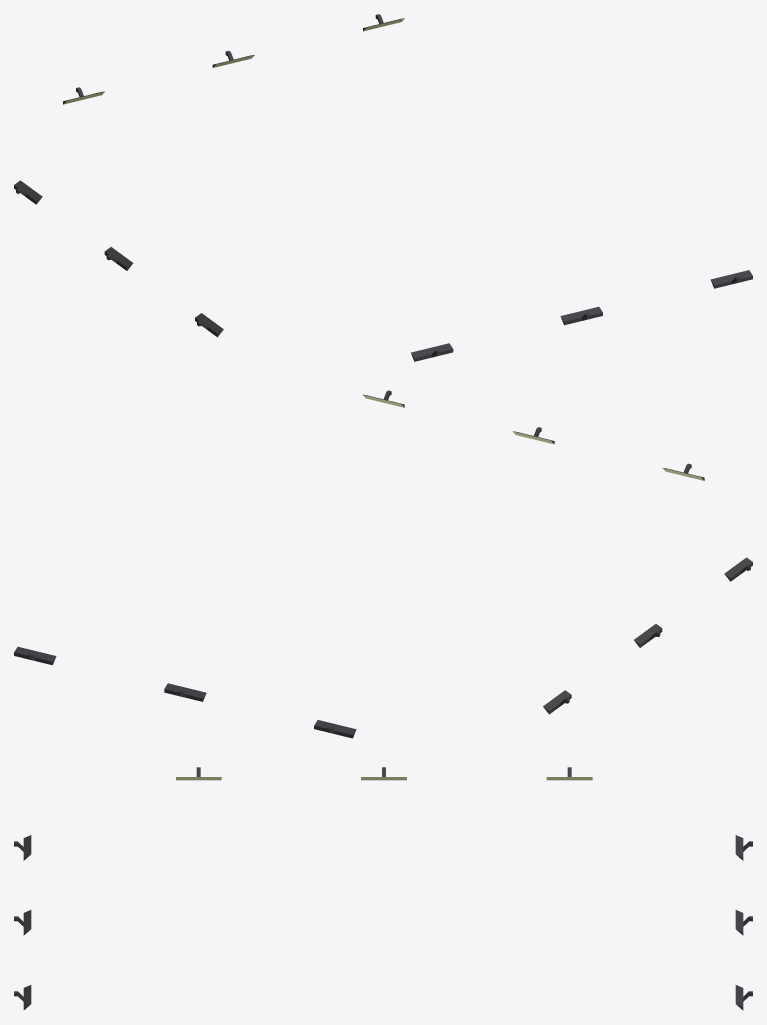
Rendered from Storage_Lights.fbx.
3 renders of one model, top to bottom at view 1: azimuth 30°, elevation 25°; view 2: azimuth 150°, elevation 25°; view 3: azimuth 270°, elevation 25°, orthographic. The views are drawn at different scales.
Visible parts, largest first — view 1: Storage_Lights; view 2: Storage_Lights; view 3: Storage_Lights.
Boxes of the visible parts, left/top/right/bottom form: Storage_Lights: left=14, top=14, right=752, bottom=361; Storage_Lights: left=14, top=390, right=752, bottom=738; Storage_Lights: left=14, top=767, right=752, bottom=1010.
Bounding box in the file's own units: 2113 × 38.03 × 2814.
